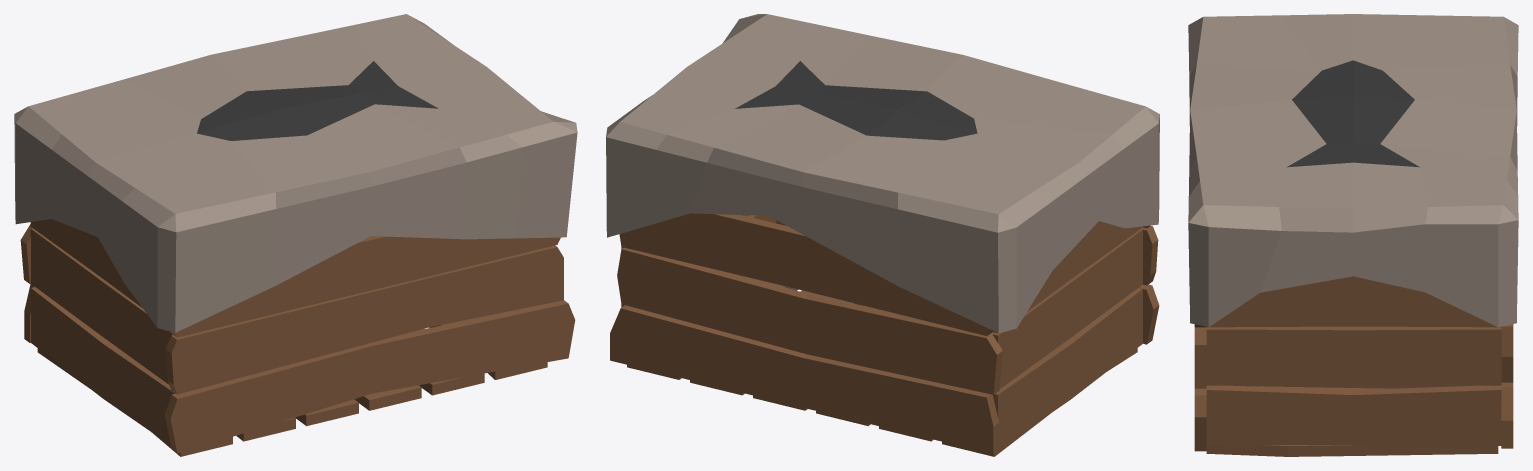
The model's file is Fish_Crate_01.fbx.
The picture shows the model from 3 angles, left to right: view 1: azimuth 30°, elevation 25°; view 2: azimuth 150°, elevation 25°; view 3: azimuth 270°, elevation 25°; orthographic projection. The views are drawn at different scales.
Parts seen in each view (by area): view 1: Fish_Crate_01; view 2: Fish_Crate_01; view 3: Fish_Crate_01.
Boxes of the visible parts, bbox=[...] form: Fish_Crate_01: bbox=[14, 14, 577, 456]; Fish_Crate_01: bbox=[606, 14, 1159, 456]; Fish_Crate_01: bbox=[1188, 14, 1518, 456].
Bounding box in the file's own units: 0.7695 × 0.4492 × 0.5151.
